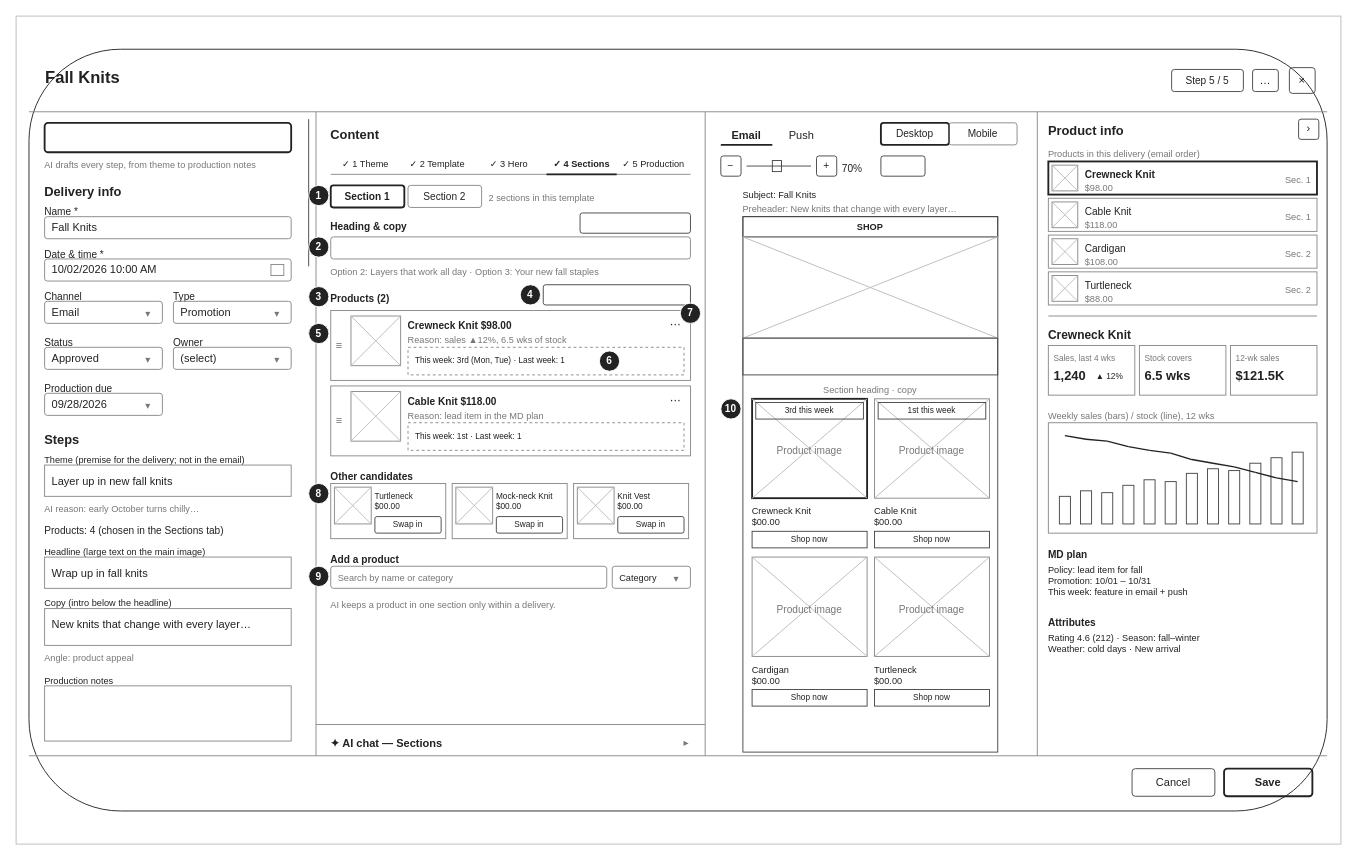
Image size: 1357x860. Some labels were removed from this diagram. Here are the shapes that lost their labels. From the top down, the centre of each, then its label:
point 167,137: ✦ Draft all with AI
point 902,165: Fit
point 634,222: ✦ Suggest
point 510,247: Soft knits for cool mornings
point 616,294: ✦ Choose with AI
point 870,287: Main image
point 870,356: Headline Copy
point 167,713: (notes for the production team)
